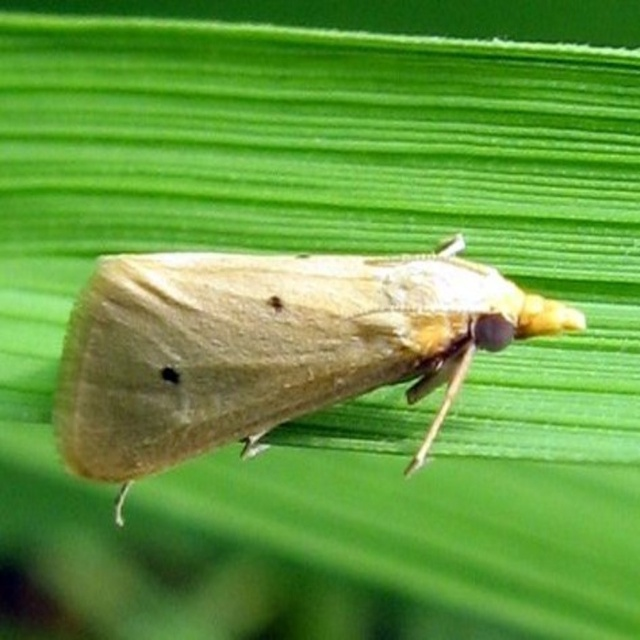Butterfly: (51, 232, 589, 534)
